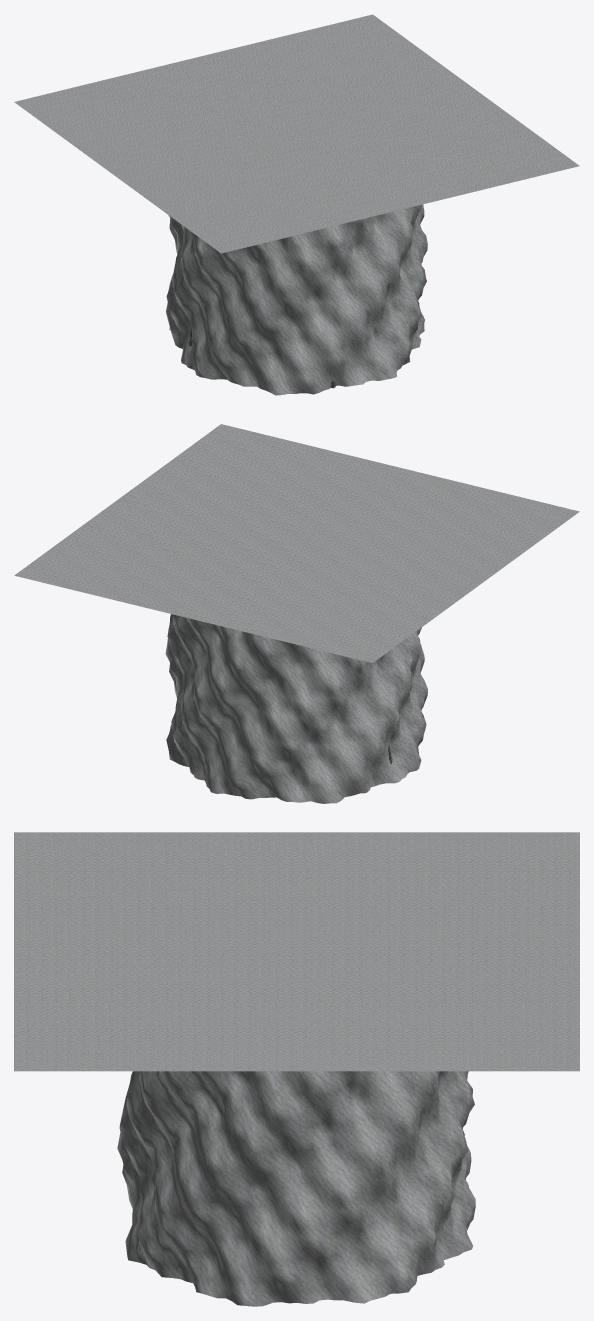
The model's file is room.glb.
3 views of the same model, one above another, from view 1: azimuth 30°, elevation 25°; view 2: azimuth 150°, elevation 25°; view 3: azimuth 270°, elevation 25° (orthographic). The views are drawn at different scales.
Parts seen in each view (by area): view 1: VAIR-2; view 2: VAIR-2; view 3: VAIR-2.
Part boxes in pixels (bbox=[...]): VAIR-2: bbox=[14, 14, 579, 395]; VAIR-2: bbox=[14, 424, 579, 803]; VAIR-2: bbox=[14, 832, 579, 1306].
Size of the model in its own units: 136 by 75 by 136.
1 material, 1 textured.
